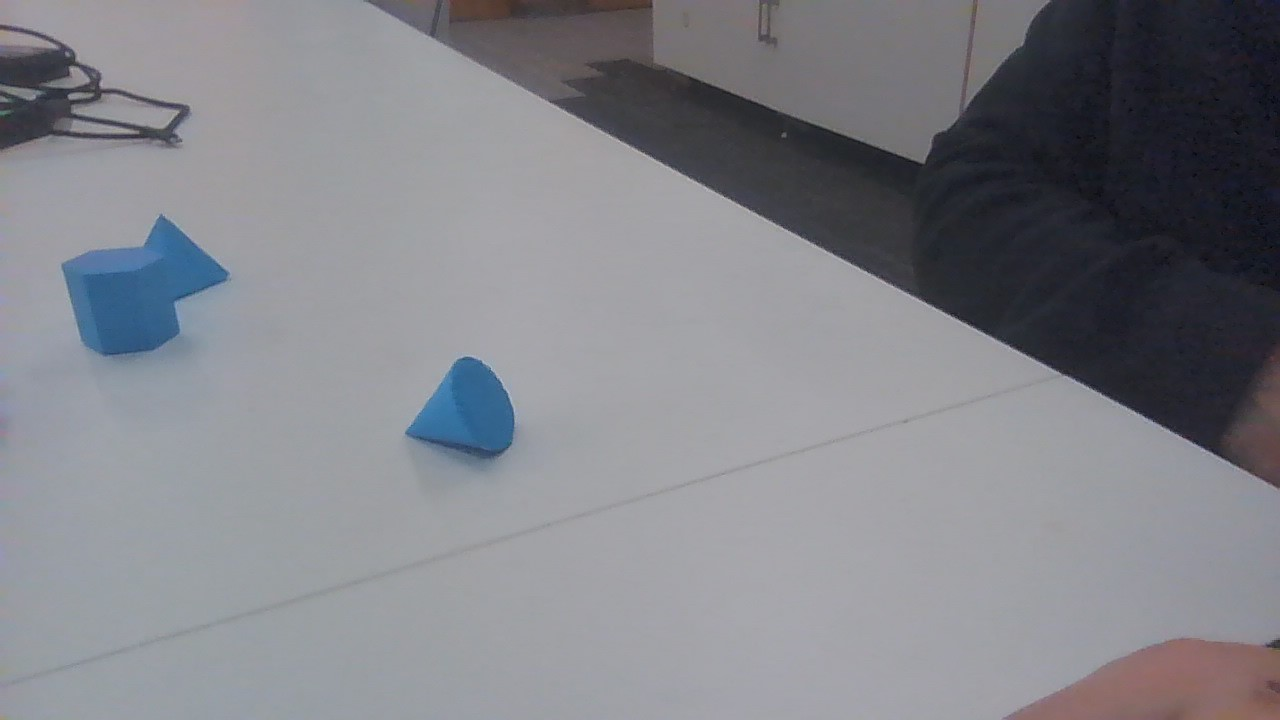cone: (406, 357, 519, 452)
